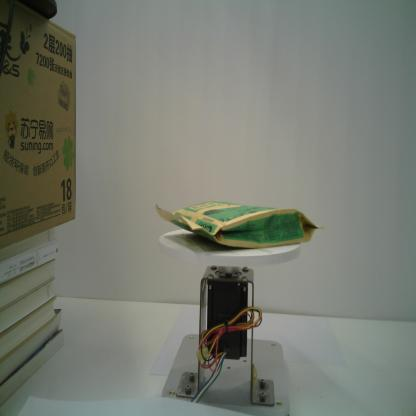Dried Food: (154, 199, 325, 250)
